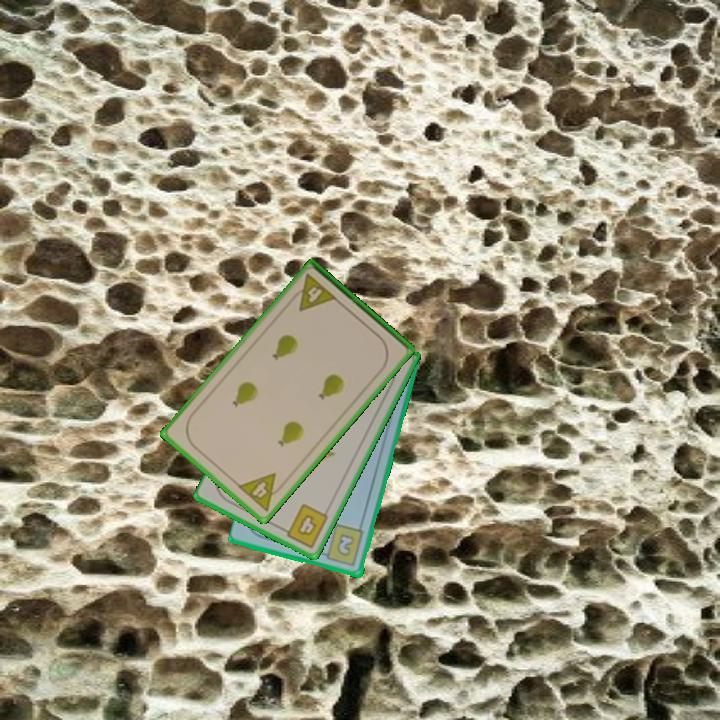2b: (317, 521, 367, 569)
4b: (277, 500, 331, 551)
4p: (234, 469, 289, 514), (286, 270, 340, 314)
